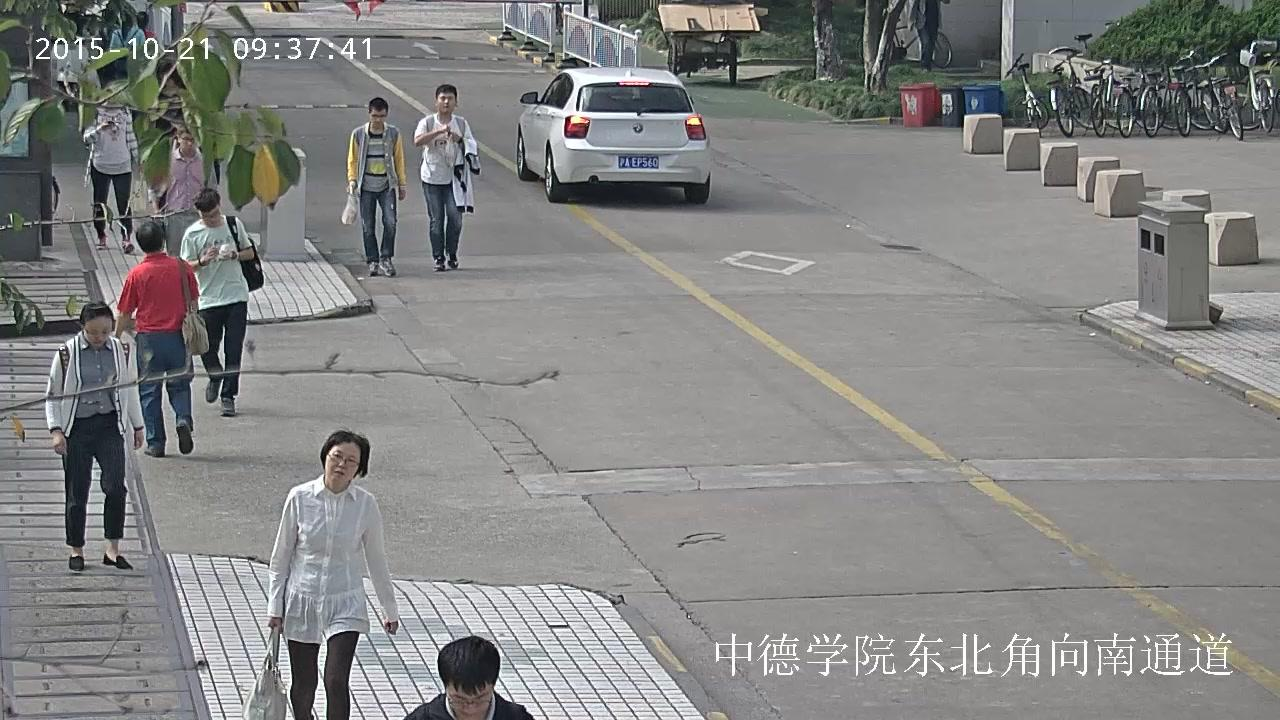person: (242, 430, 396, 720), (44, 302, 143, 572), (116, 220, 210, 456), (180, 187, 262, 415), (413, 84, 480, 271), (340, 97, 407, 277), (402, 635, 533, 720), (82, 80, 138, 252), (148, 130, 204, 257), (908, 0, 949, 72), (154, 63, 197, 130), (109, 14, 145, 74)
